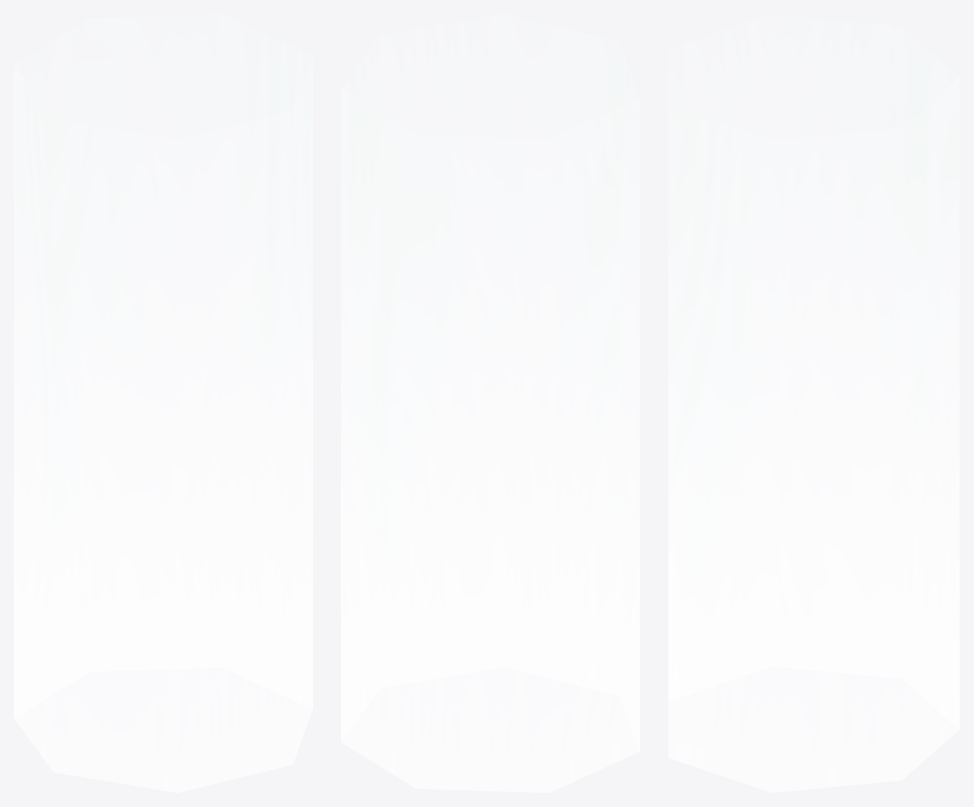
The model's file is exit.glb.
3 views of the same model, side by side, from view 1: azimuth 30°, elevation 25°; view 2: azimuth 150°, elevation 25°; view 3: azimuth 270°, elevation 25° (orthographic).
Parts seen in each view (by area): view 1: Circle; view 2: Circle; view 3: Circle.
Part boxes in pixels (left/top/right/bottom): Circle: left=14, top=14, right=312, bottom=792; Circle: left=341, top=14, right=639, bottom=792; Circle: left=668, top=19, right=959, bottom=792.
Size of the model in its own units: 2.33 by 5.62 by 2.28.
Materials: 1 (1 with a texture image).
